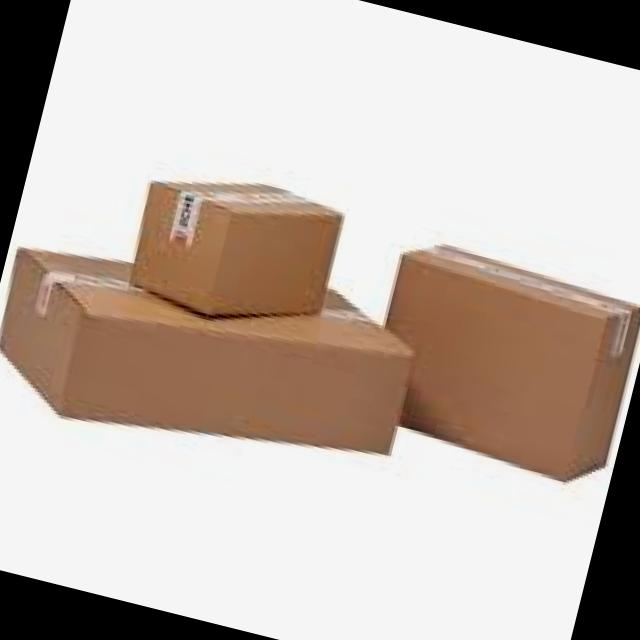cardboard: (0, 249, 411, 454), (385, 246, 639, 480), (130, 182, 340, 316)
